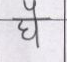ai_matra: (23, 0, 41, 18)
